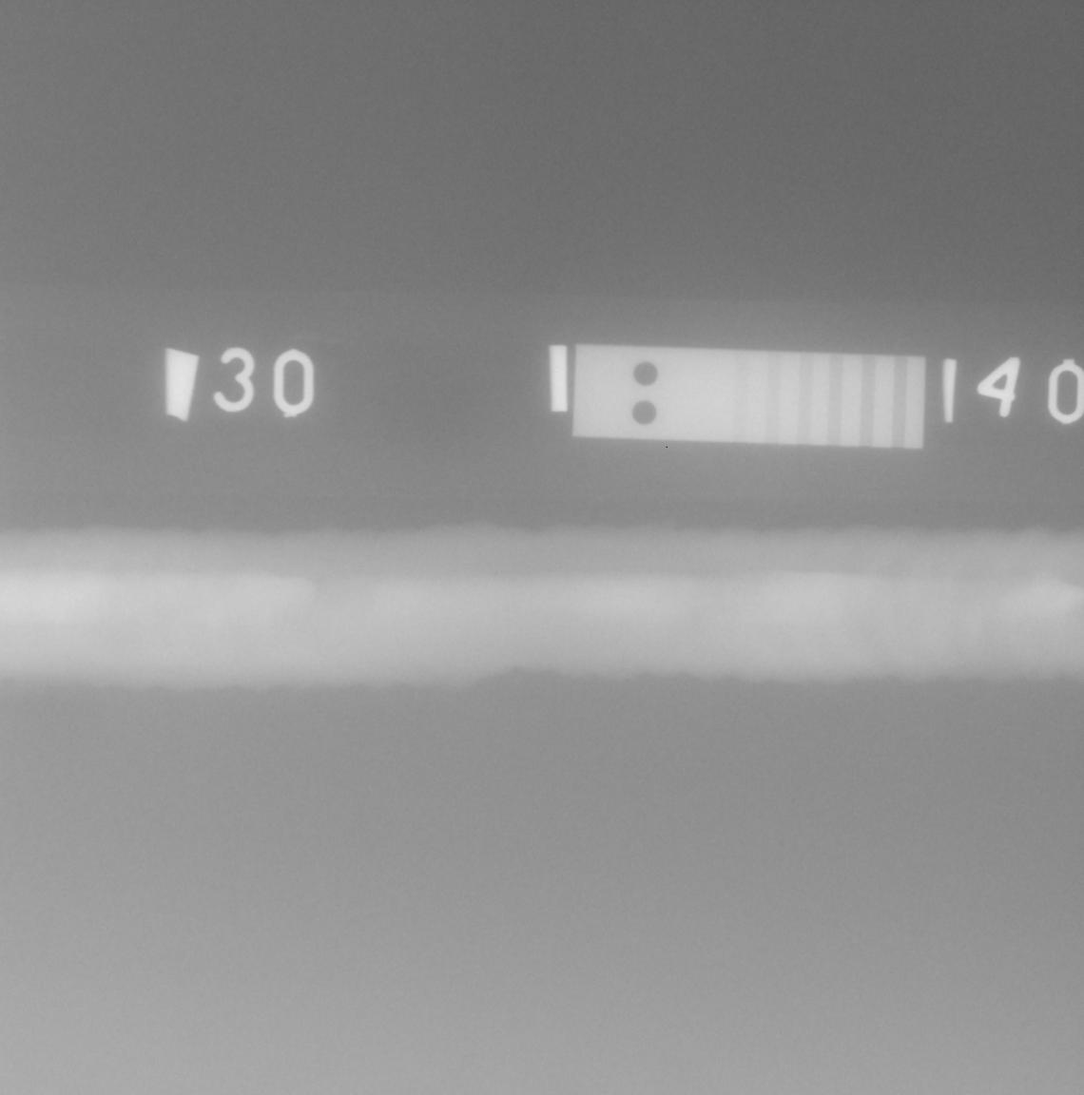Reference Standard 2: (573, 343, 926, 450)
